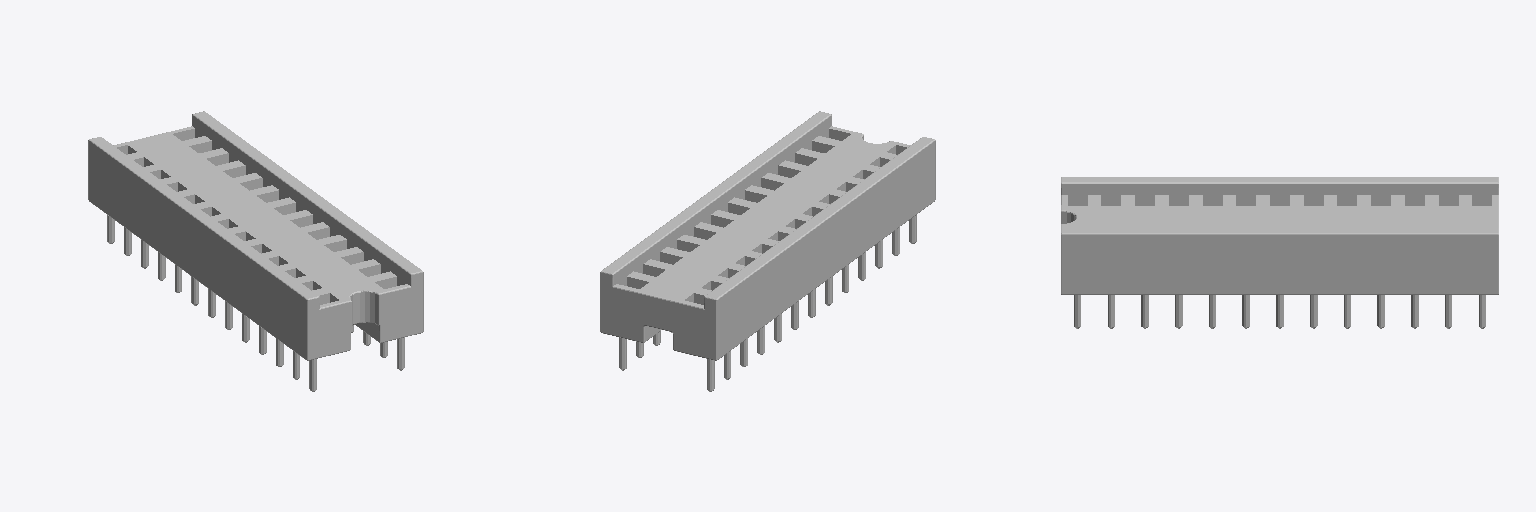
The model's file is IC_Sockel_26P.obj.
3 renders of one model, left to right at view 1: azimuth 30°, elevation 25°; view 2: azimuth 150°, elevation 25°; view 3: azimuth 270°, elevation 25°, orthographic.
Visible parts, largest first — view 1: Volumenkörper1; view 2: Volumenkörper1; view 3: Volumenkörper1.
Part boxes in pixels (x1,y1,x2,y2): Volumenkörper1: (88, 111, 423, 391); Volumenkörper1: (600, 111, 935, 391); Volumenkörper1: (1061, 177, 1498, 328).
Bounding box in the file's own units: 10.16 × 8.46 × 33.02.